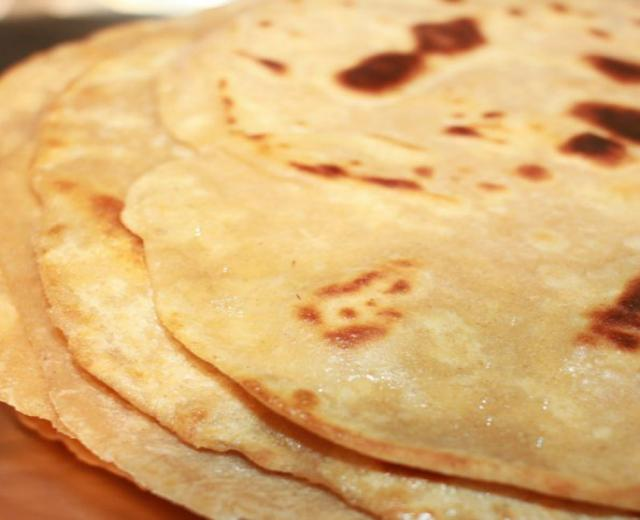chapati: (124, 2, 639, 508)
